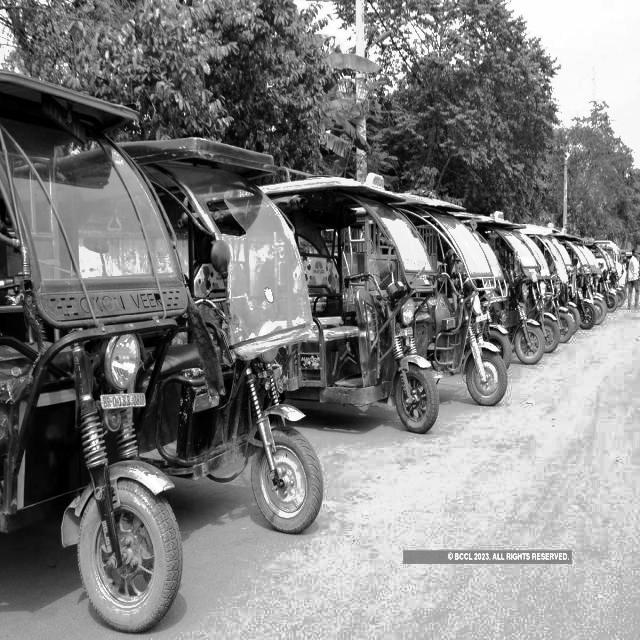Toto: (0, 74, 178, 640), (169, 137, 323, 531), (327, 179, 439, 433)
